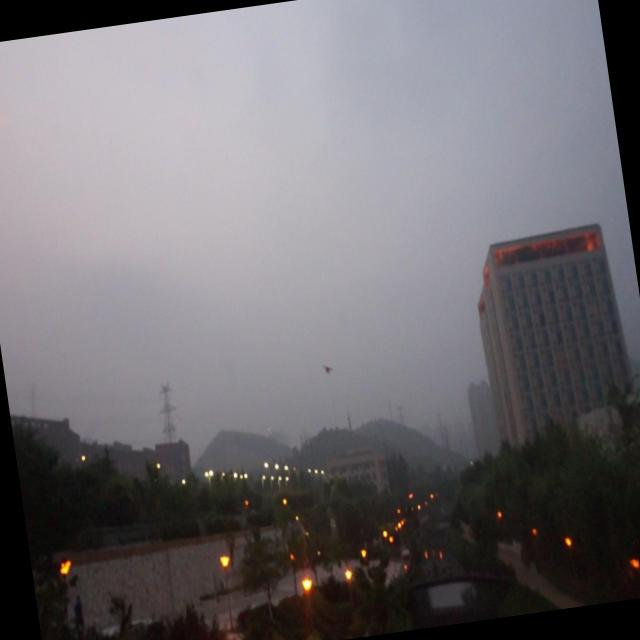drone: (321, 360, 336, 378)
